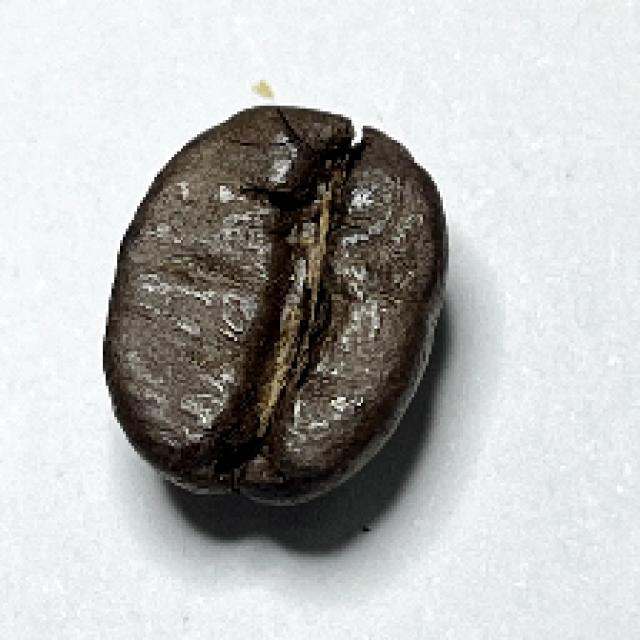bean: (100, 103, 451, 510)
